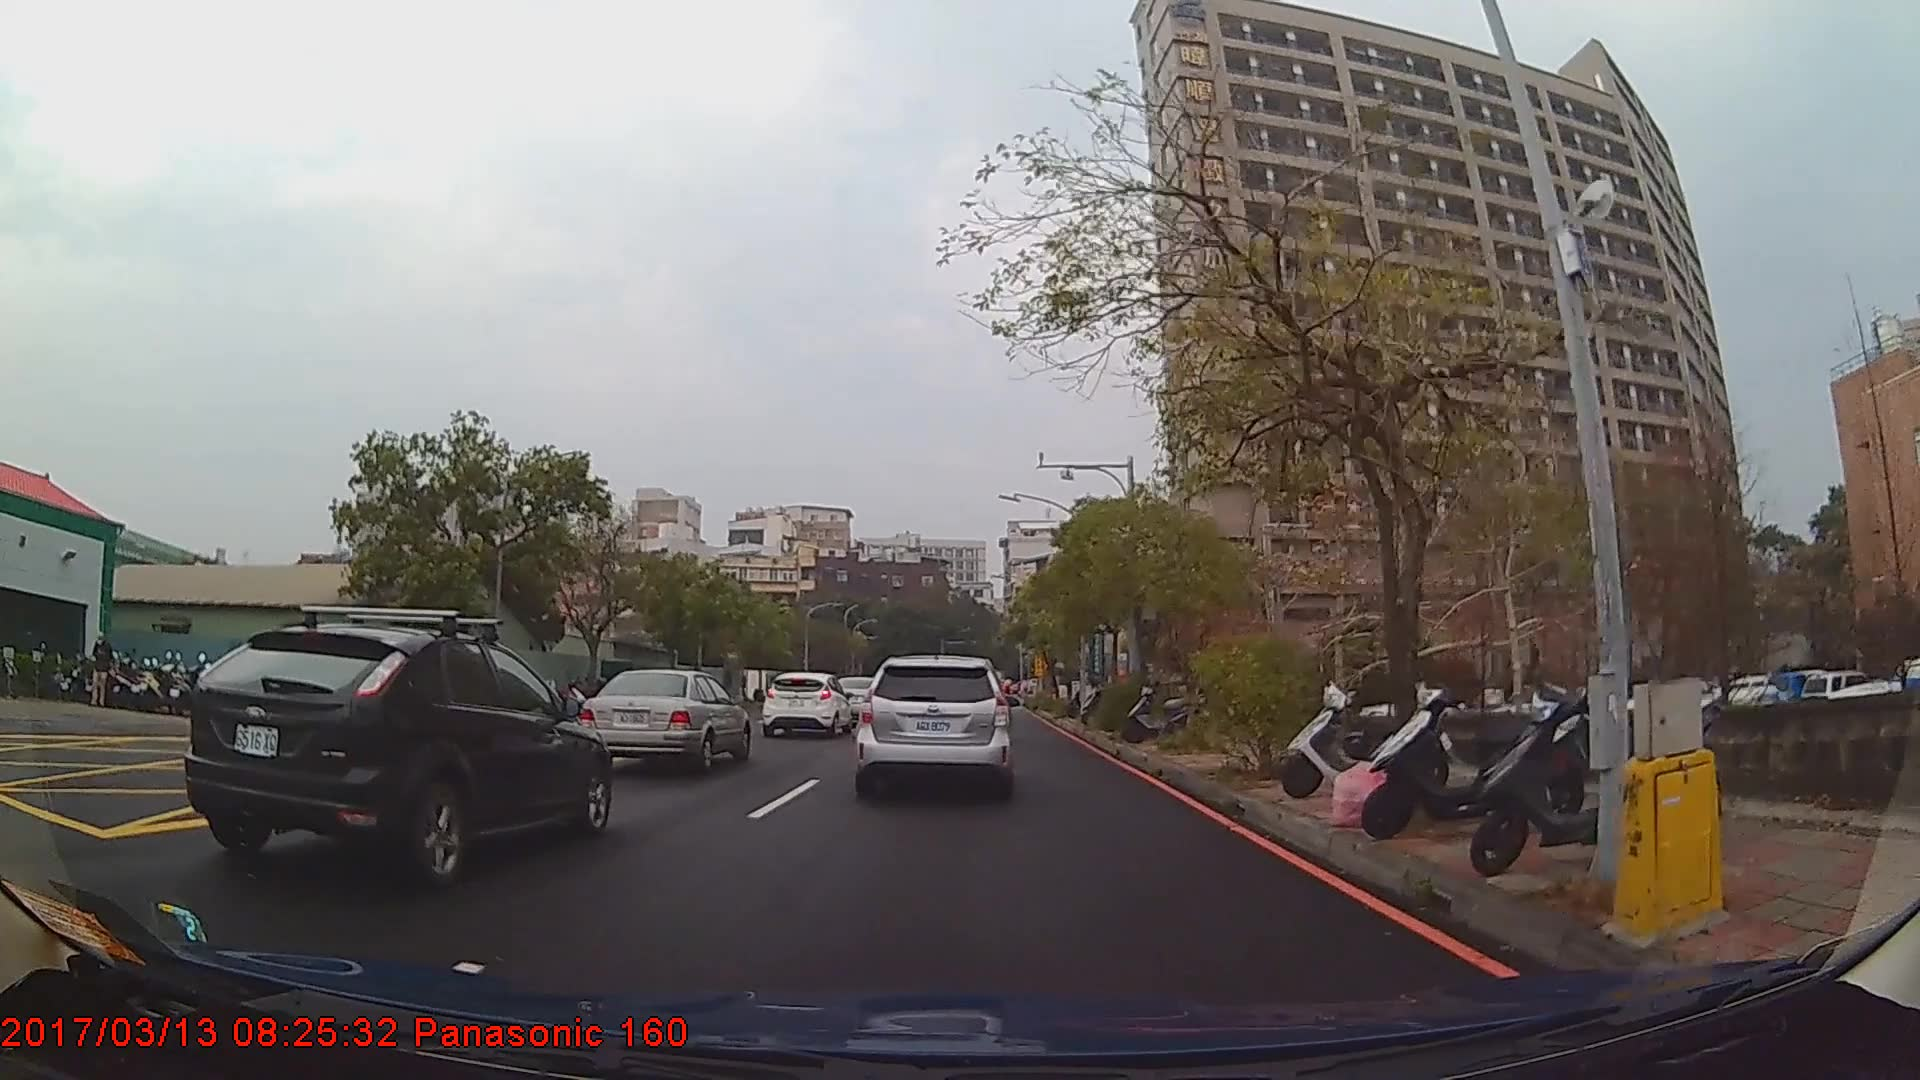pedestrian: (90, 634, 116, 710)
vehicle: (182, 623, 610, 885), (853, 651, 1010, 799), (575, 669, 749, 772), (761, 670, 855, 739)
